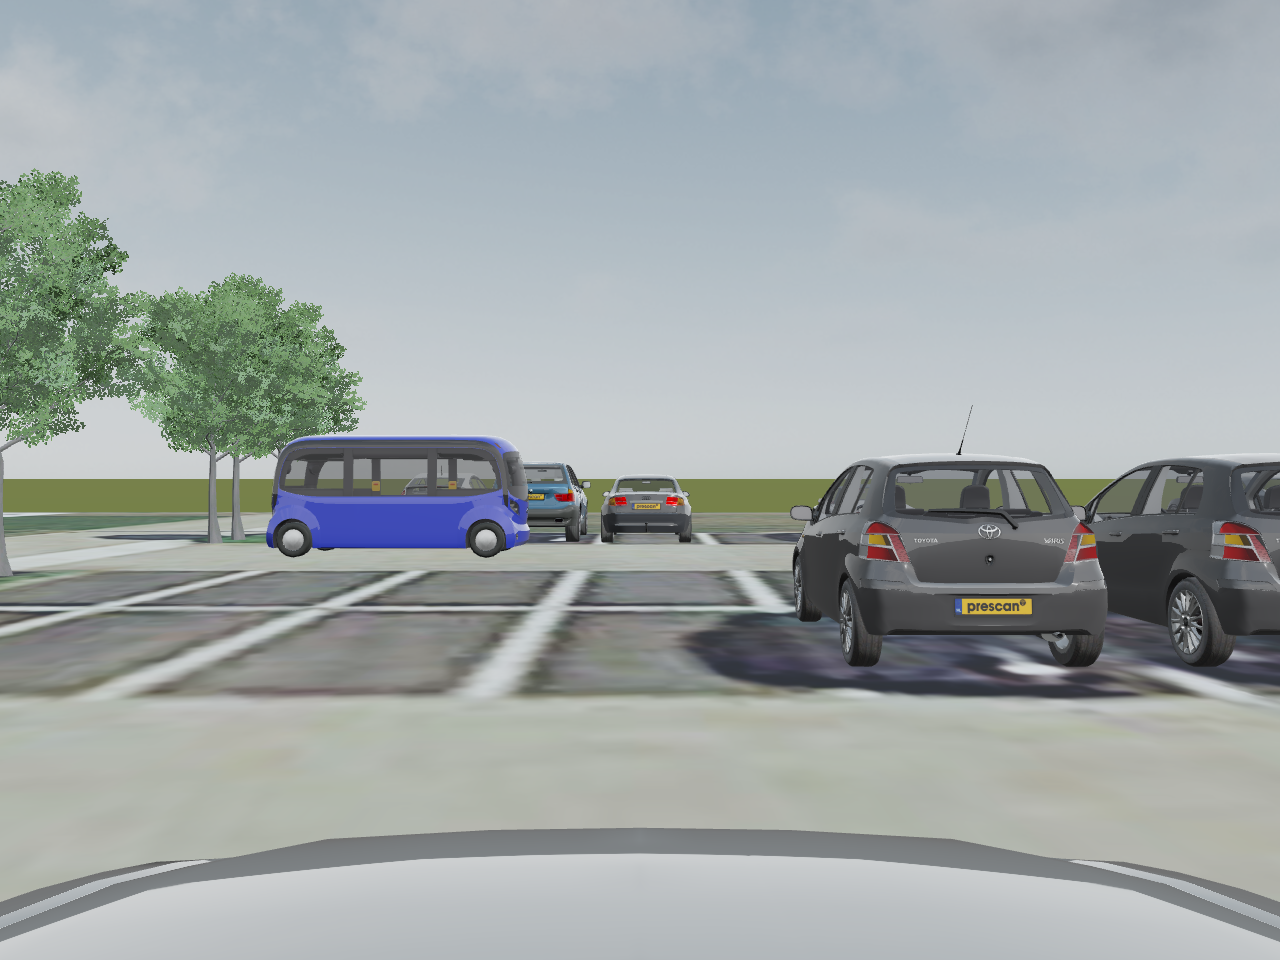Car: (790, 408, 1108, 667), (1071, 453, 1280, 667), (266, 435, 530, 558), (601, 475, 692, 542), (523, 462, 590, 542)
